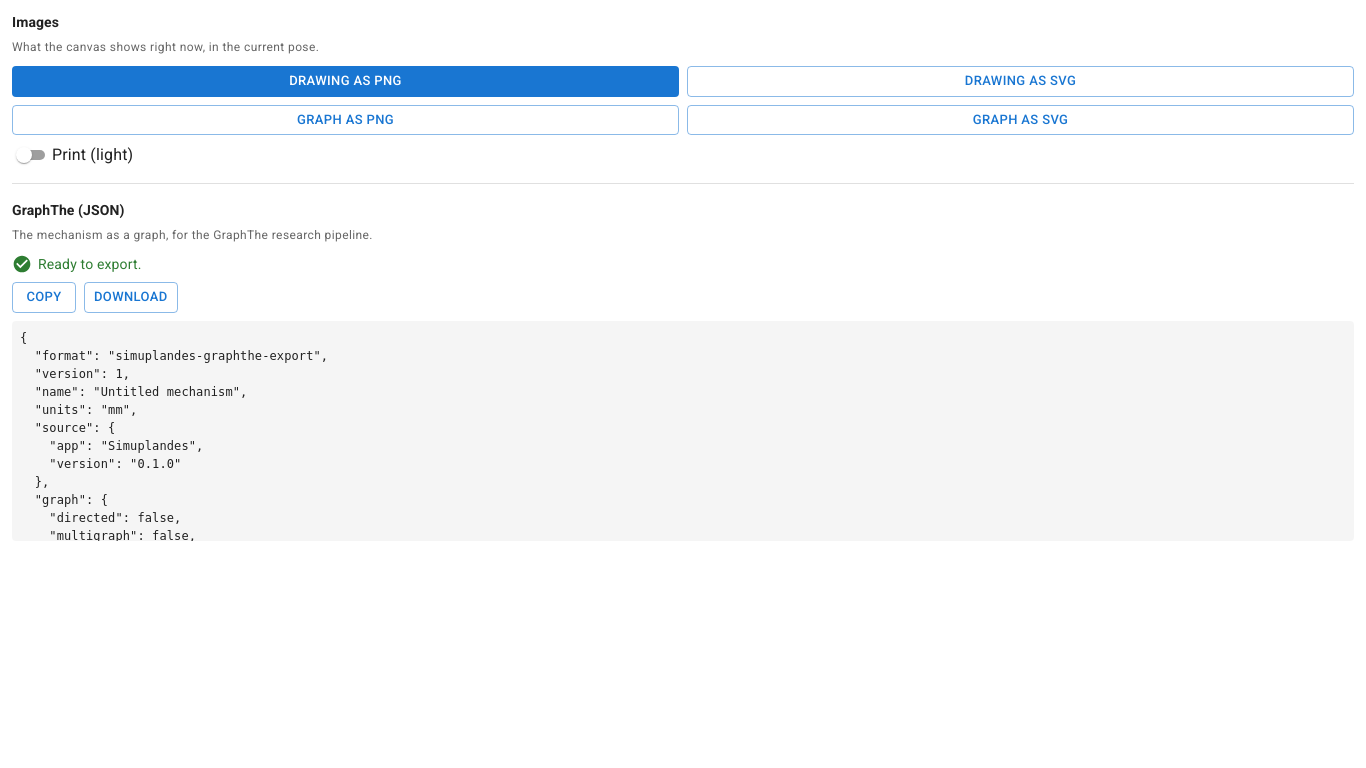
it: ExportPanel › Copy writes the exact export text to the clipboard and shows a transient Copied
Click the button with test id "export-copy" at (44, 298), box [12,282,76,313]
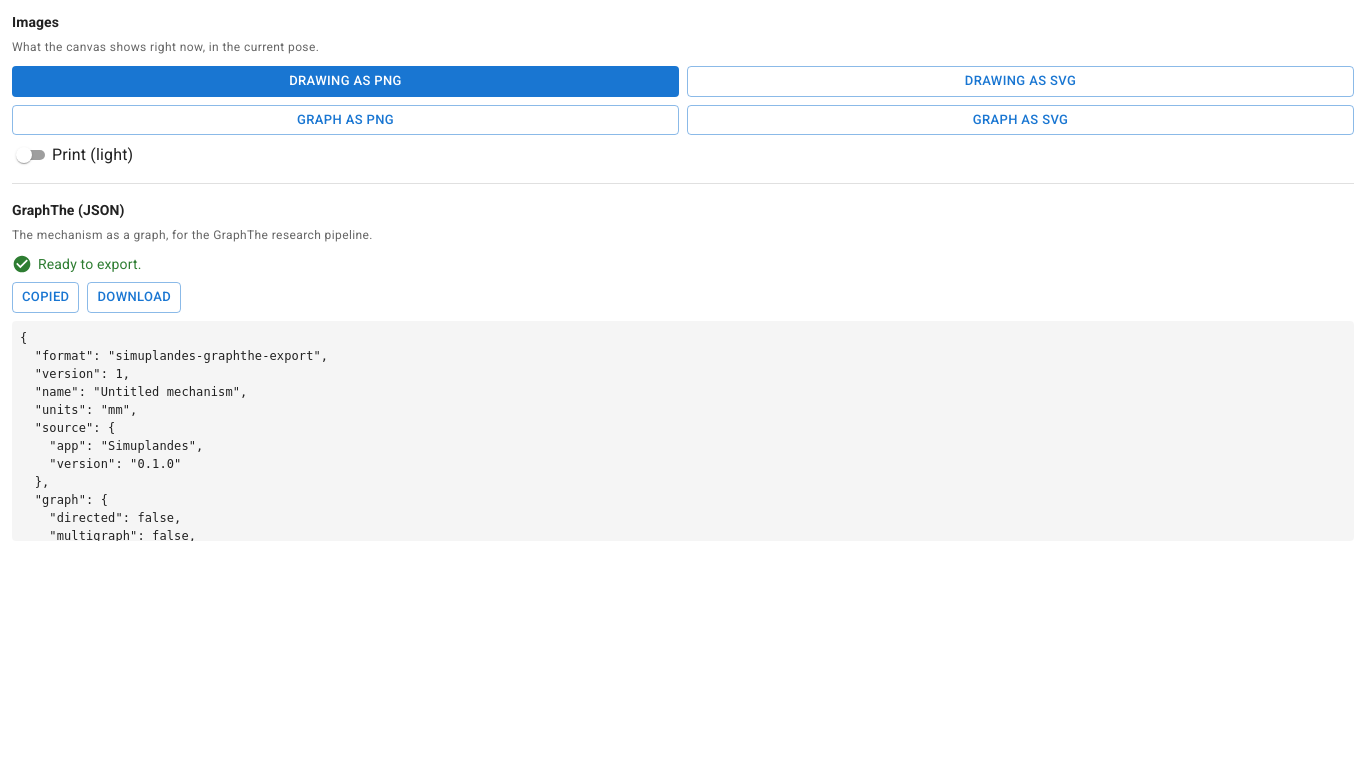
Check: the button with test id "export-copy" reads "Copied", box [12,282,80,313]
